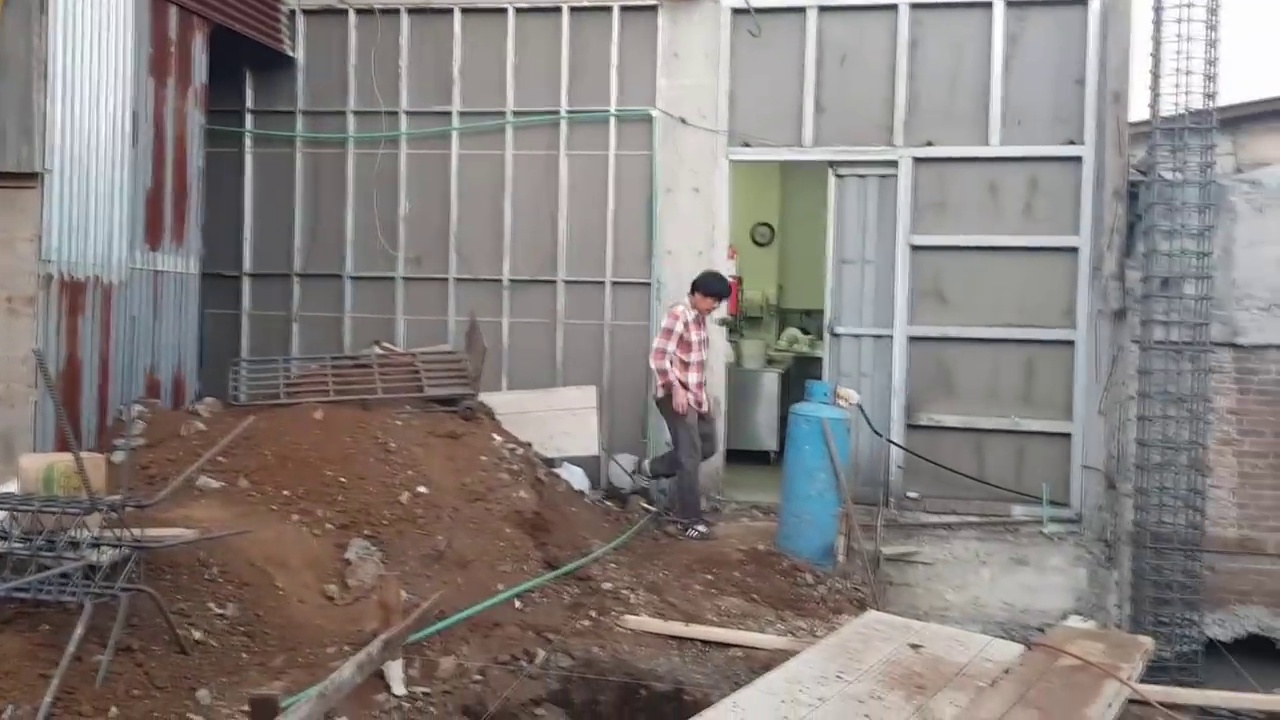helmet-off: (685, 271, 736, 324)
person: (646, 258, 741, 539)
